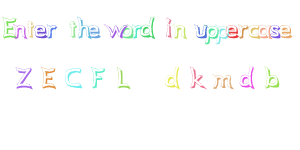C: (62, 66, 87, 92)
E: (38, 64, 60, 92), (1, 11, 17, 41)
F: (88, 66, 111, 91)
L: (114, 64, 138, 95)
Z: (11, 64, 35, 93)
a: (259, 23, 272, 43)
b: (262, 61, 283, 92)
c: (248, 23, 261, 41)
d: (161, 66, 183, 91), (237, 63, 257, 90), (141, 15, 158, 43)
e: (88, 19, 101, 45), (34, 20, 48, 42), (279, 24, 293, 41), (227, 22, 238, 41)
h: (77, 14, 90, 43)
i: (161, 16, 174, 40)
k: (188, 65, 209, 91)
m: (209, 70, 236, 93)
n: (174, 20, 189, 42), (14, 20, 28, 41)
o: (121, 24, 133, 42)
p: (206, 24, 219, 47), (218, 24, 230, 48)
r: (45, 22, 59, 41), (131, 21, 142, 42), (238, 23, 250, 41)
s: (270, 23, 281, 41)
t: (65, 20, 78, 41), (25, 19, 36, 39)
u: (193, 19, 207, 43)
w: (102, 20, 124, 46)
